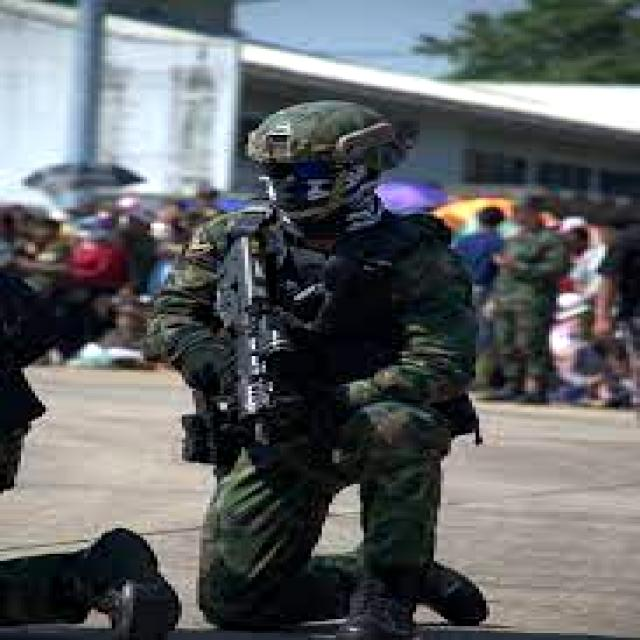m16: (205, 198, 359, 494)
